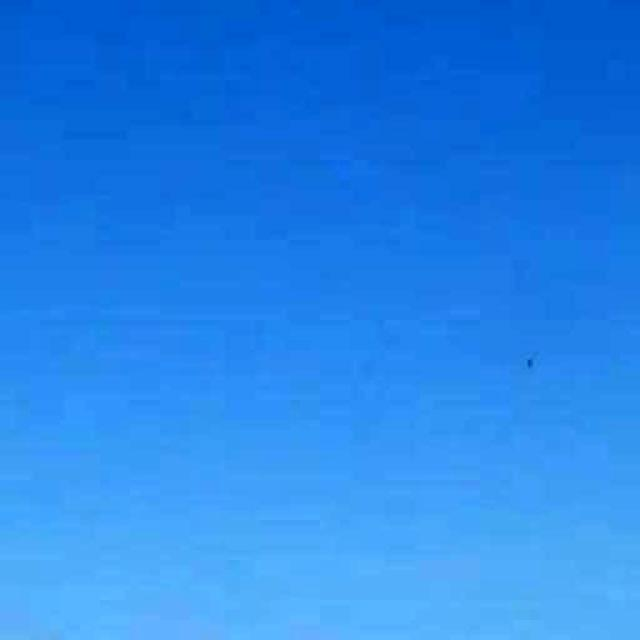drone: (508, 328, 554, 405)
